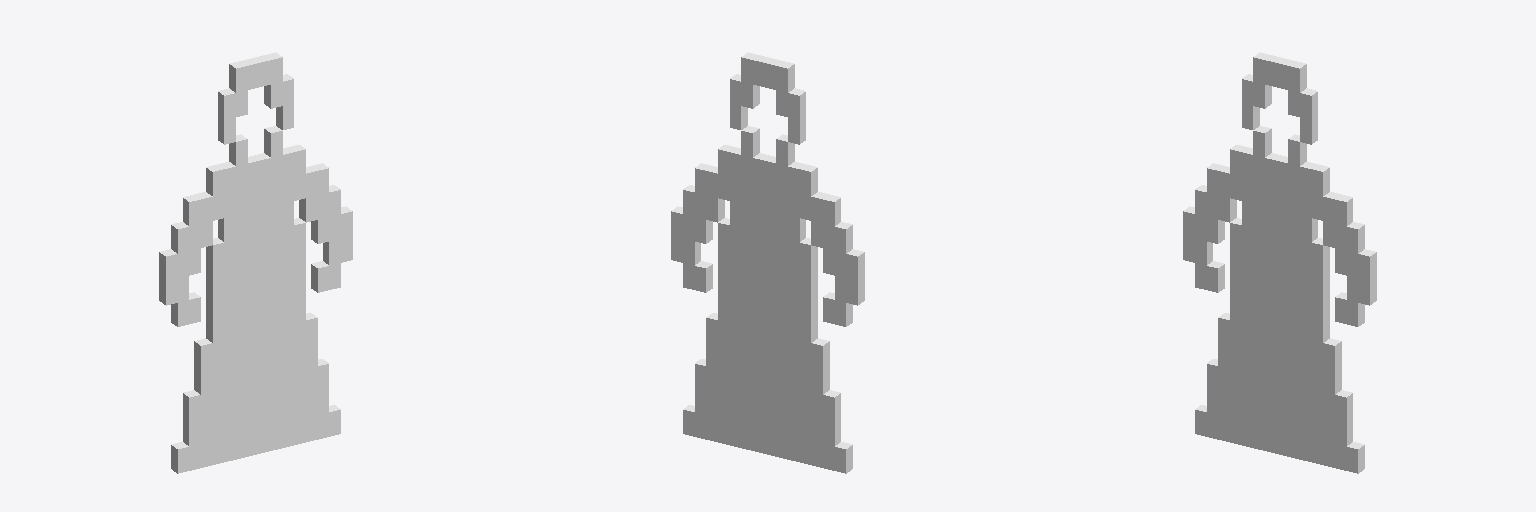
File: Wraith-Orange.vox.obj
The picture shows the model from 3 angles: view 1: azimuth 30°, elevation 25°; view 2: azimuth 150°, elevation 25°; view 3: azimuth 330°, elevation 25°; orthographic projection.
Parts seen in each view (by area): view 1: object 1; view 2: object 1; view 3: object 1.
Part boxes in pixels (x1,y1,x2,y2): object 1: (159, 52, 352, 473); object 1: (671, 52, 864, 473); object 1: (1183, 52, 1376, 473).
Size of the model in its own units: 1.6 by 3.2 by 0.1.